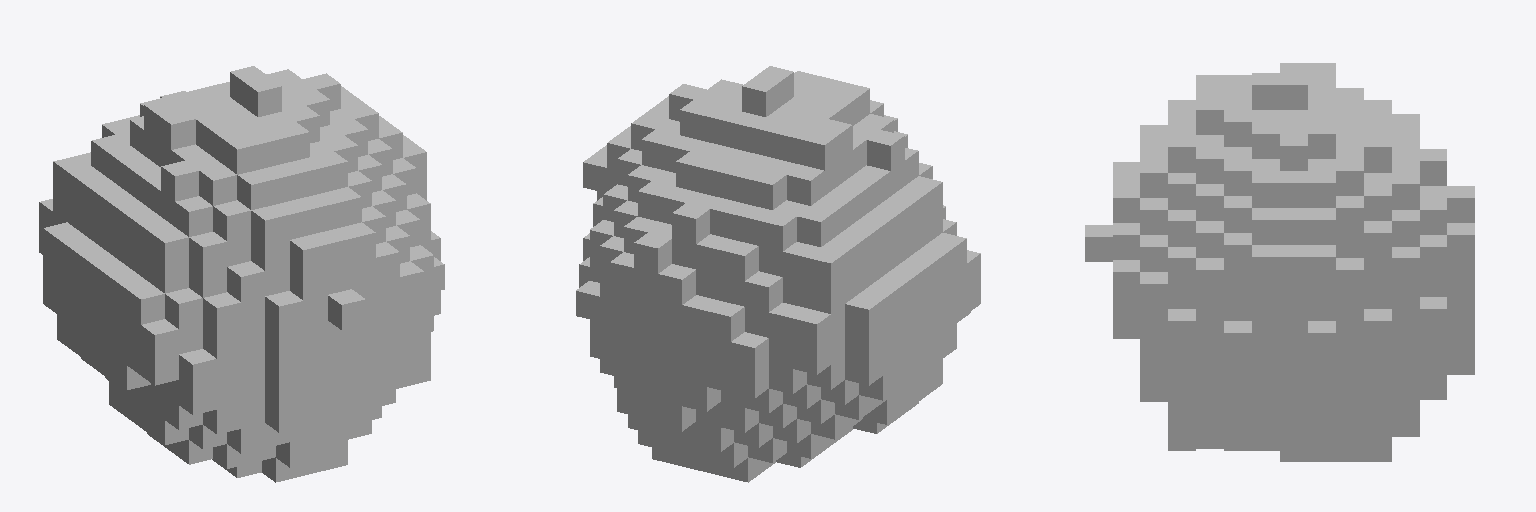
Rendered from asteroid10.obj.
The picture shows the model from 3 angles: view 1: azimuth 30°, elevation 25°; view 2: azimuth 150°, elevation 25°; view 3: azimuth 270°, elevation 25°; orthographic projection.
Visible parts, largest first — view 1: Icosphere.002; view 2: Icosphere.002; view 3: Icosphere.002.
Part boxes in pixels (left/top/right/bottom): Icosphere.002: left=39, top=66, right=444, bottom=482; Icosphere.002: left=576, top=66, right=980, bottom=482; Icosphere.002: left=1085, top=63, right=1474, bottom=461.
Size of the model in its own units: 2.49 by 2.68 by 2.68.